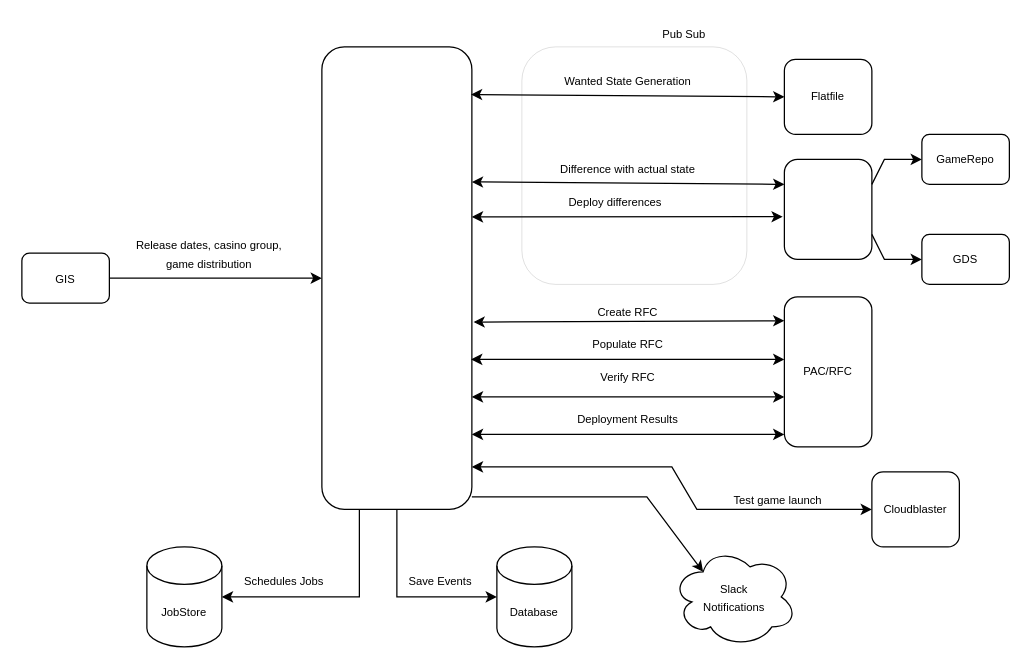
The diagram is 1031 pixels wide and 669 high, and some of its shapes have lost their labels. Each missing label, with the centre of its shape:
Orchestrator: (396,277)
Sunshine: (827,208)
